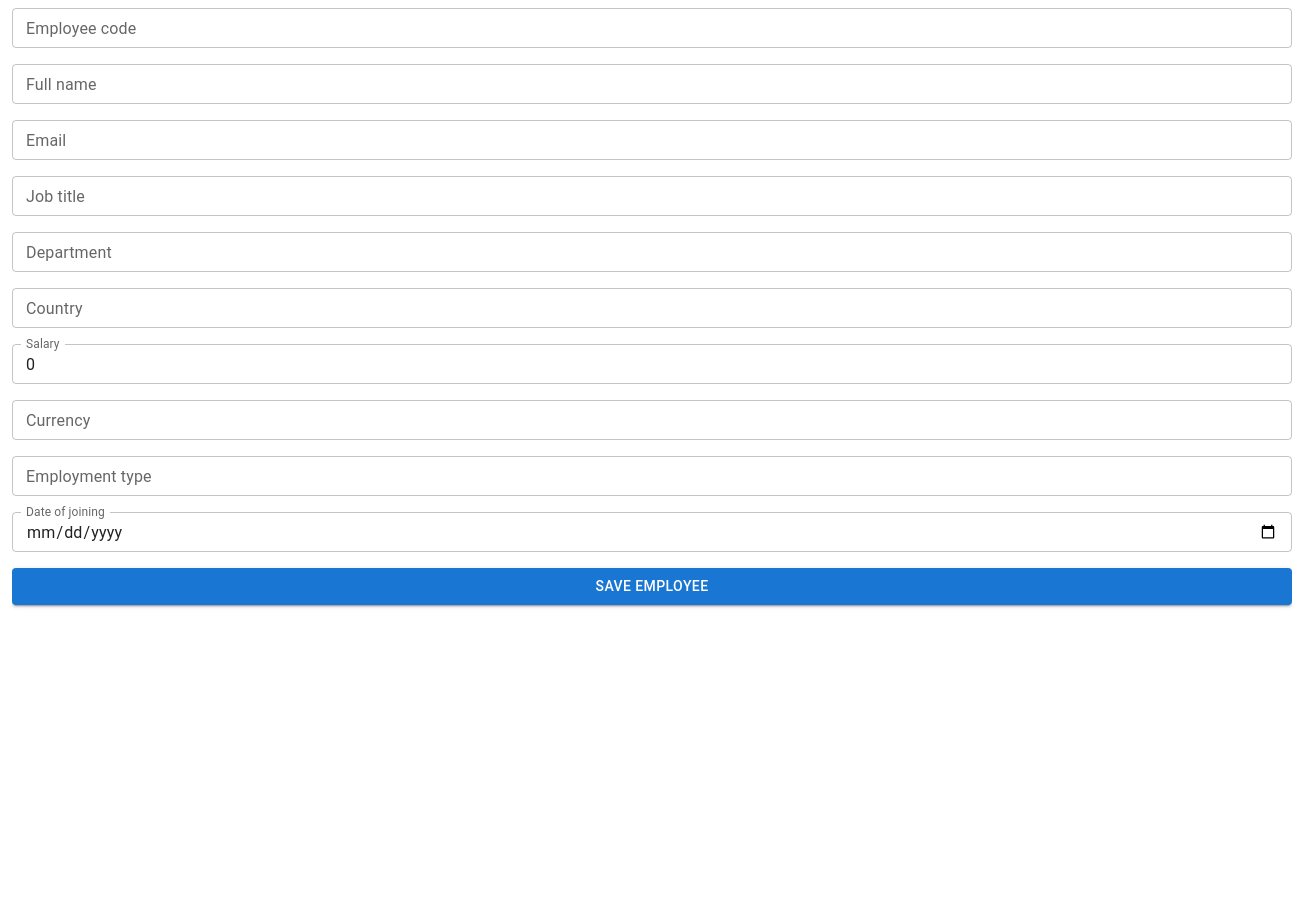
it: EmployeeForm › shows validation errors for required fields
What coordinates should you click on to do the following:
click the button "Save employee"
I would click on:
 (652, 586)
Its box is x1=12 y1=568 x2=1292 y2=604.
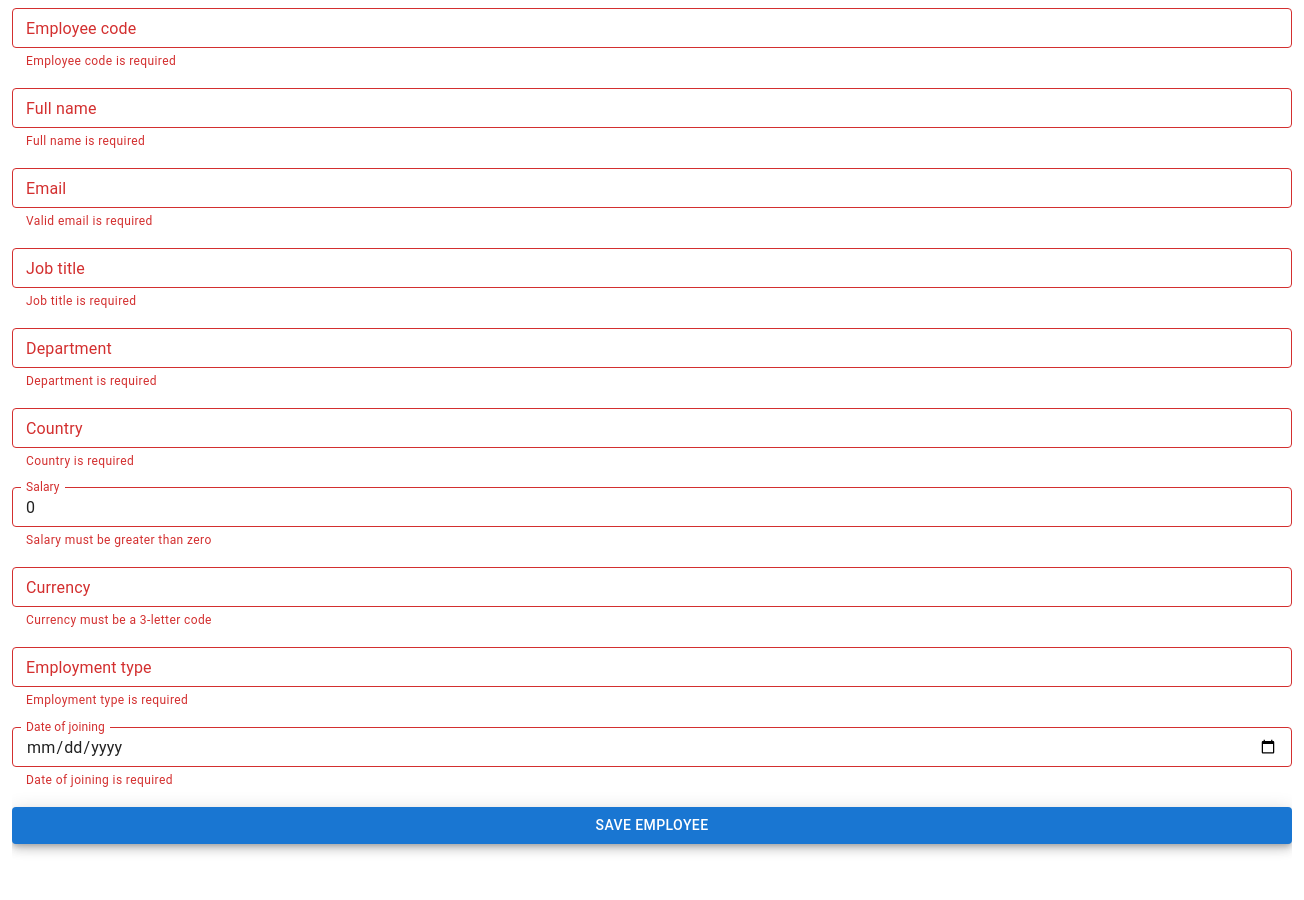
Expected: the text "Full name is required" is shown, x1=26 y1=134 x2=145 y2=148
Expected: the text "Valid email is required" is shown, x1=26 y1=214 x2=153 y2=228
Expected: the text "Salary must be greater than zero" is shown, x1=26 y1=533 x2=212 y2=547
